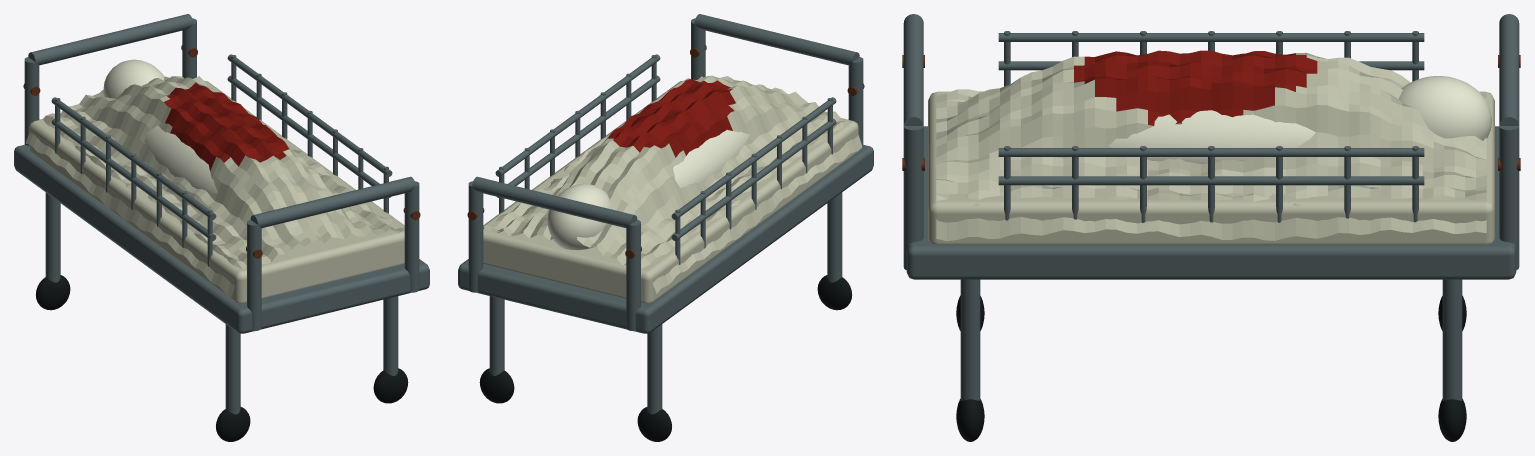
Rendered from MotherBody.obj.
3 views of the same model, side by side, from view 1: azimuth 30°, elevation 25°; view 2: azimuth 150°, elevation 25°; view 3: azimuth 270°, elevation 25° (orthographic). The views are drawn at different scales.
Visible parts, largest first — view 1: MotherBody; view 2: MotherBody; view 3: MotherBody.
Boxes of the visible parts, bbox=[...] form: MotherBody: bbox=[14, 14, 429, 441]; MotherBody: bbox=[458, 14, 873, 441]; MotherBody: bbox=[902, 14, 1520, 441].
Bounding box in the file's own units: 1.05 × 1.28 × 2.18.
